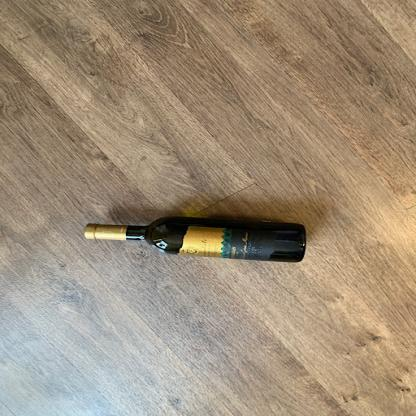trash: (84, 215, 307, 266)
